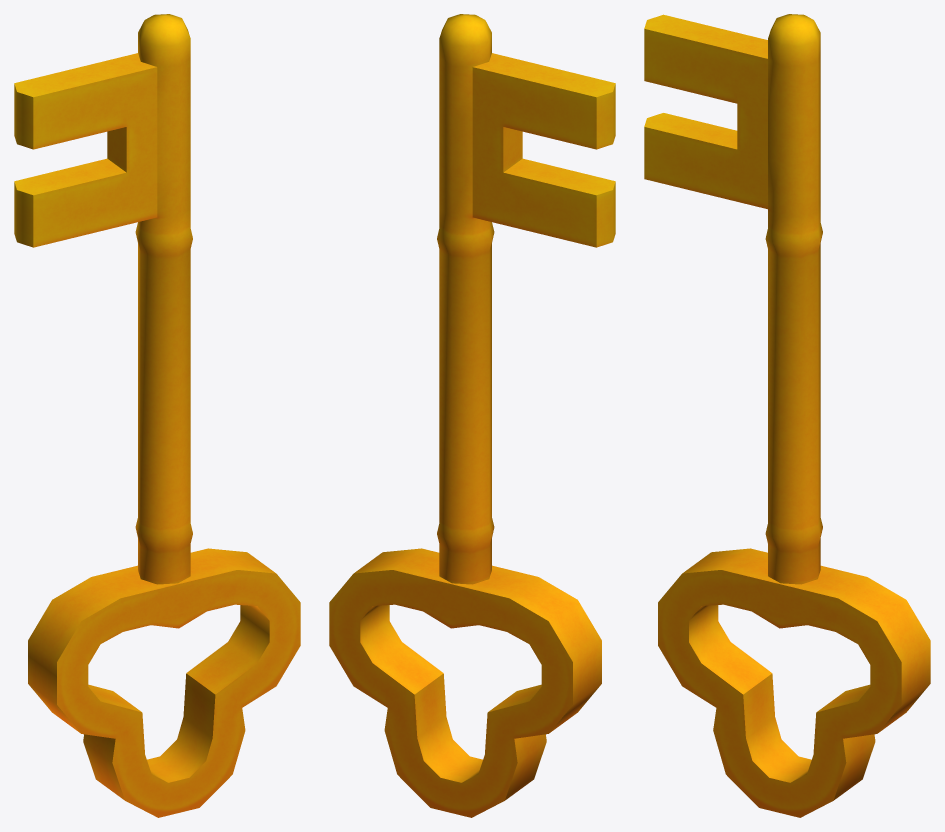
The picture shows the model from 3 angles, left to right: view 1: azimuth 30°, elevation 25°; view 2: azimuth 150°, elevation 25°; view 3: azimuth 330°, elevation 25°; orthographic projection.
Parts seen in each view (by area): view 1: Key; view 2: Key; view 3: Key.
Part boxes in pixels (<box>): Key: <box>14,14,300,817</box>; Key: <box>329,14,615,817</box>; Key: <box>644,14,930,817</box>.
Size of the model in its own units: 39.73 by 111 by 7.62.
Materials: 1 (1 with a texture image).
